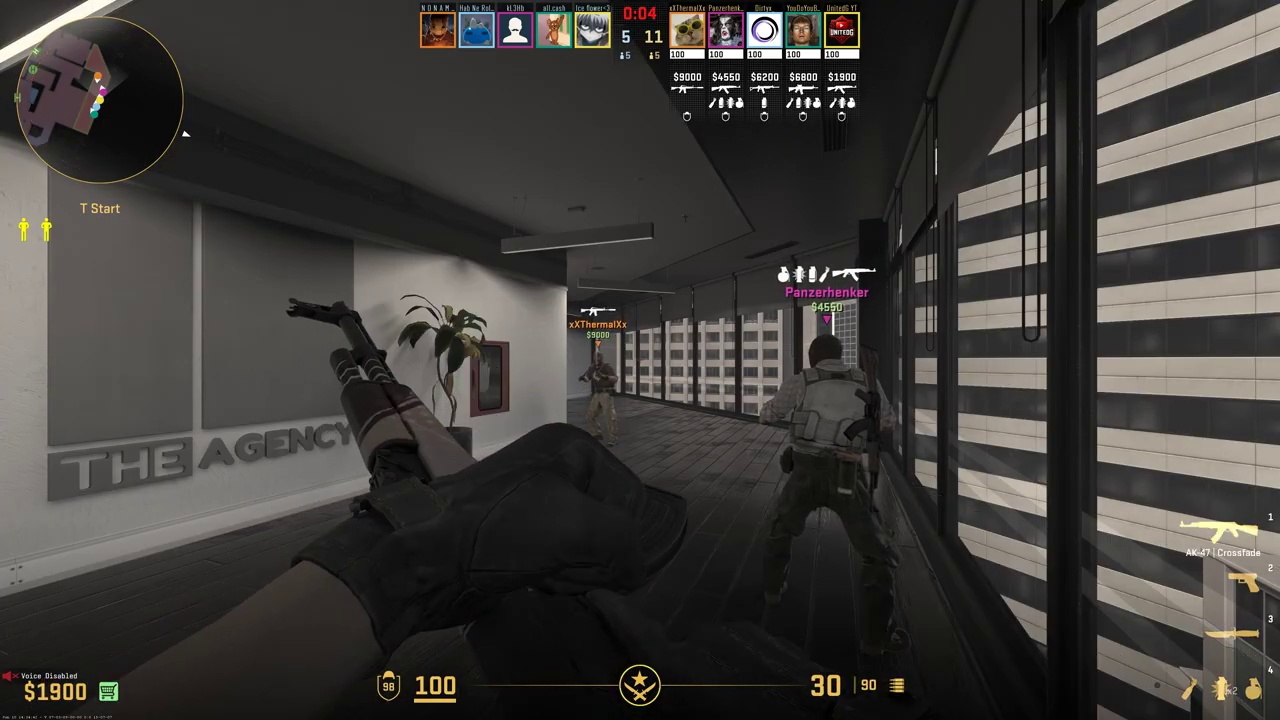Terrorist: (764, 335, 901, 661), (588, 352, 617, 445)
